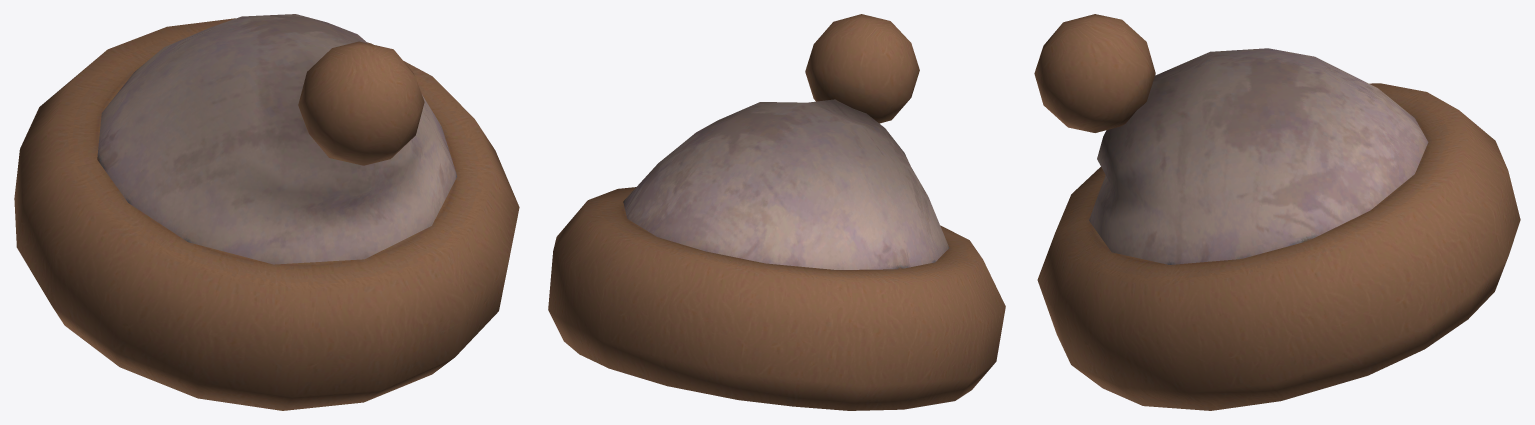
The model's file is IG_Helmat_LV1_Cotton_Snow.fbx.
3 renders of one model, left to right at view 1: azimuth 30°, elevation 25°; view 2: azimuth 150°, elevation 25°; view 3: azimuth 270°, elevation 25°, orthographic. The views are drawn at different scales.
Parts seen in each view (by area): view 1: Clothes_CottonHat; view 2: Clothes_CottonHat; view 3: Clothes_CottonHat.
Boxes of the visible parts, x1,y1,x2,y2 form: Clothes_CottonHat: (14, 14, 519, 410); Clothes_CottonHat: (548, 14, 1005, 410); Clothes_CottonHat: (1034, 14, 1520, 410).
Bounding box in the file's own units: 0.6717 × 0.5185 × 0.6725.
1 material, 1 textured.
